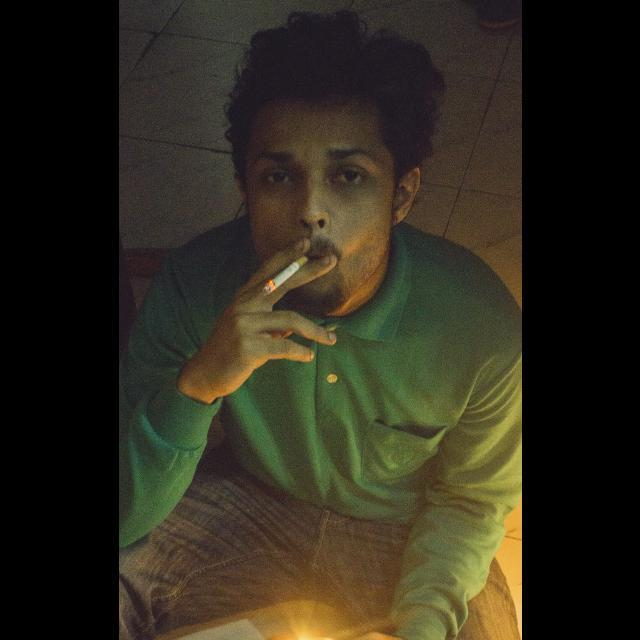rokok: (261, 252, 309, 300)
